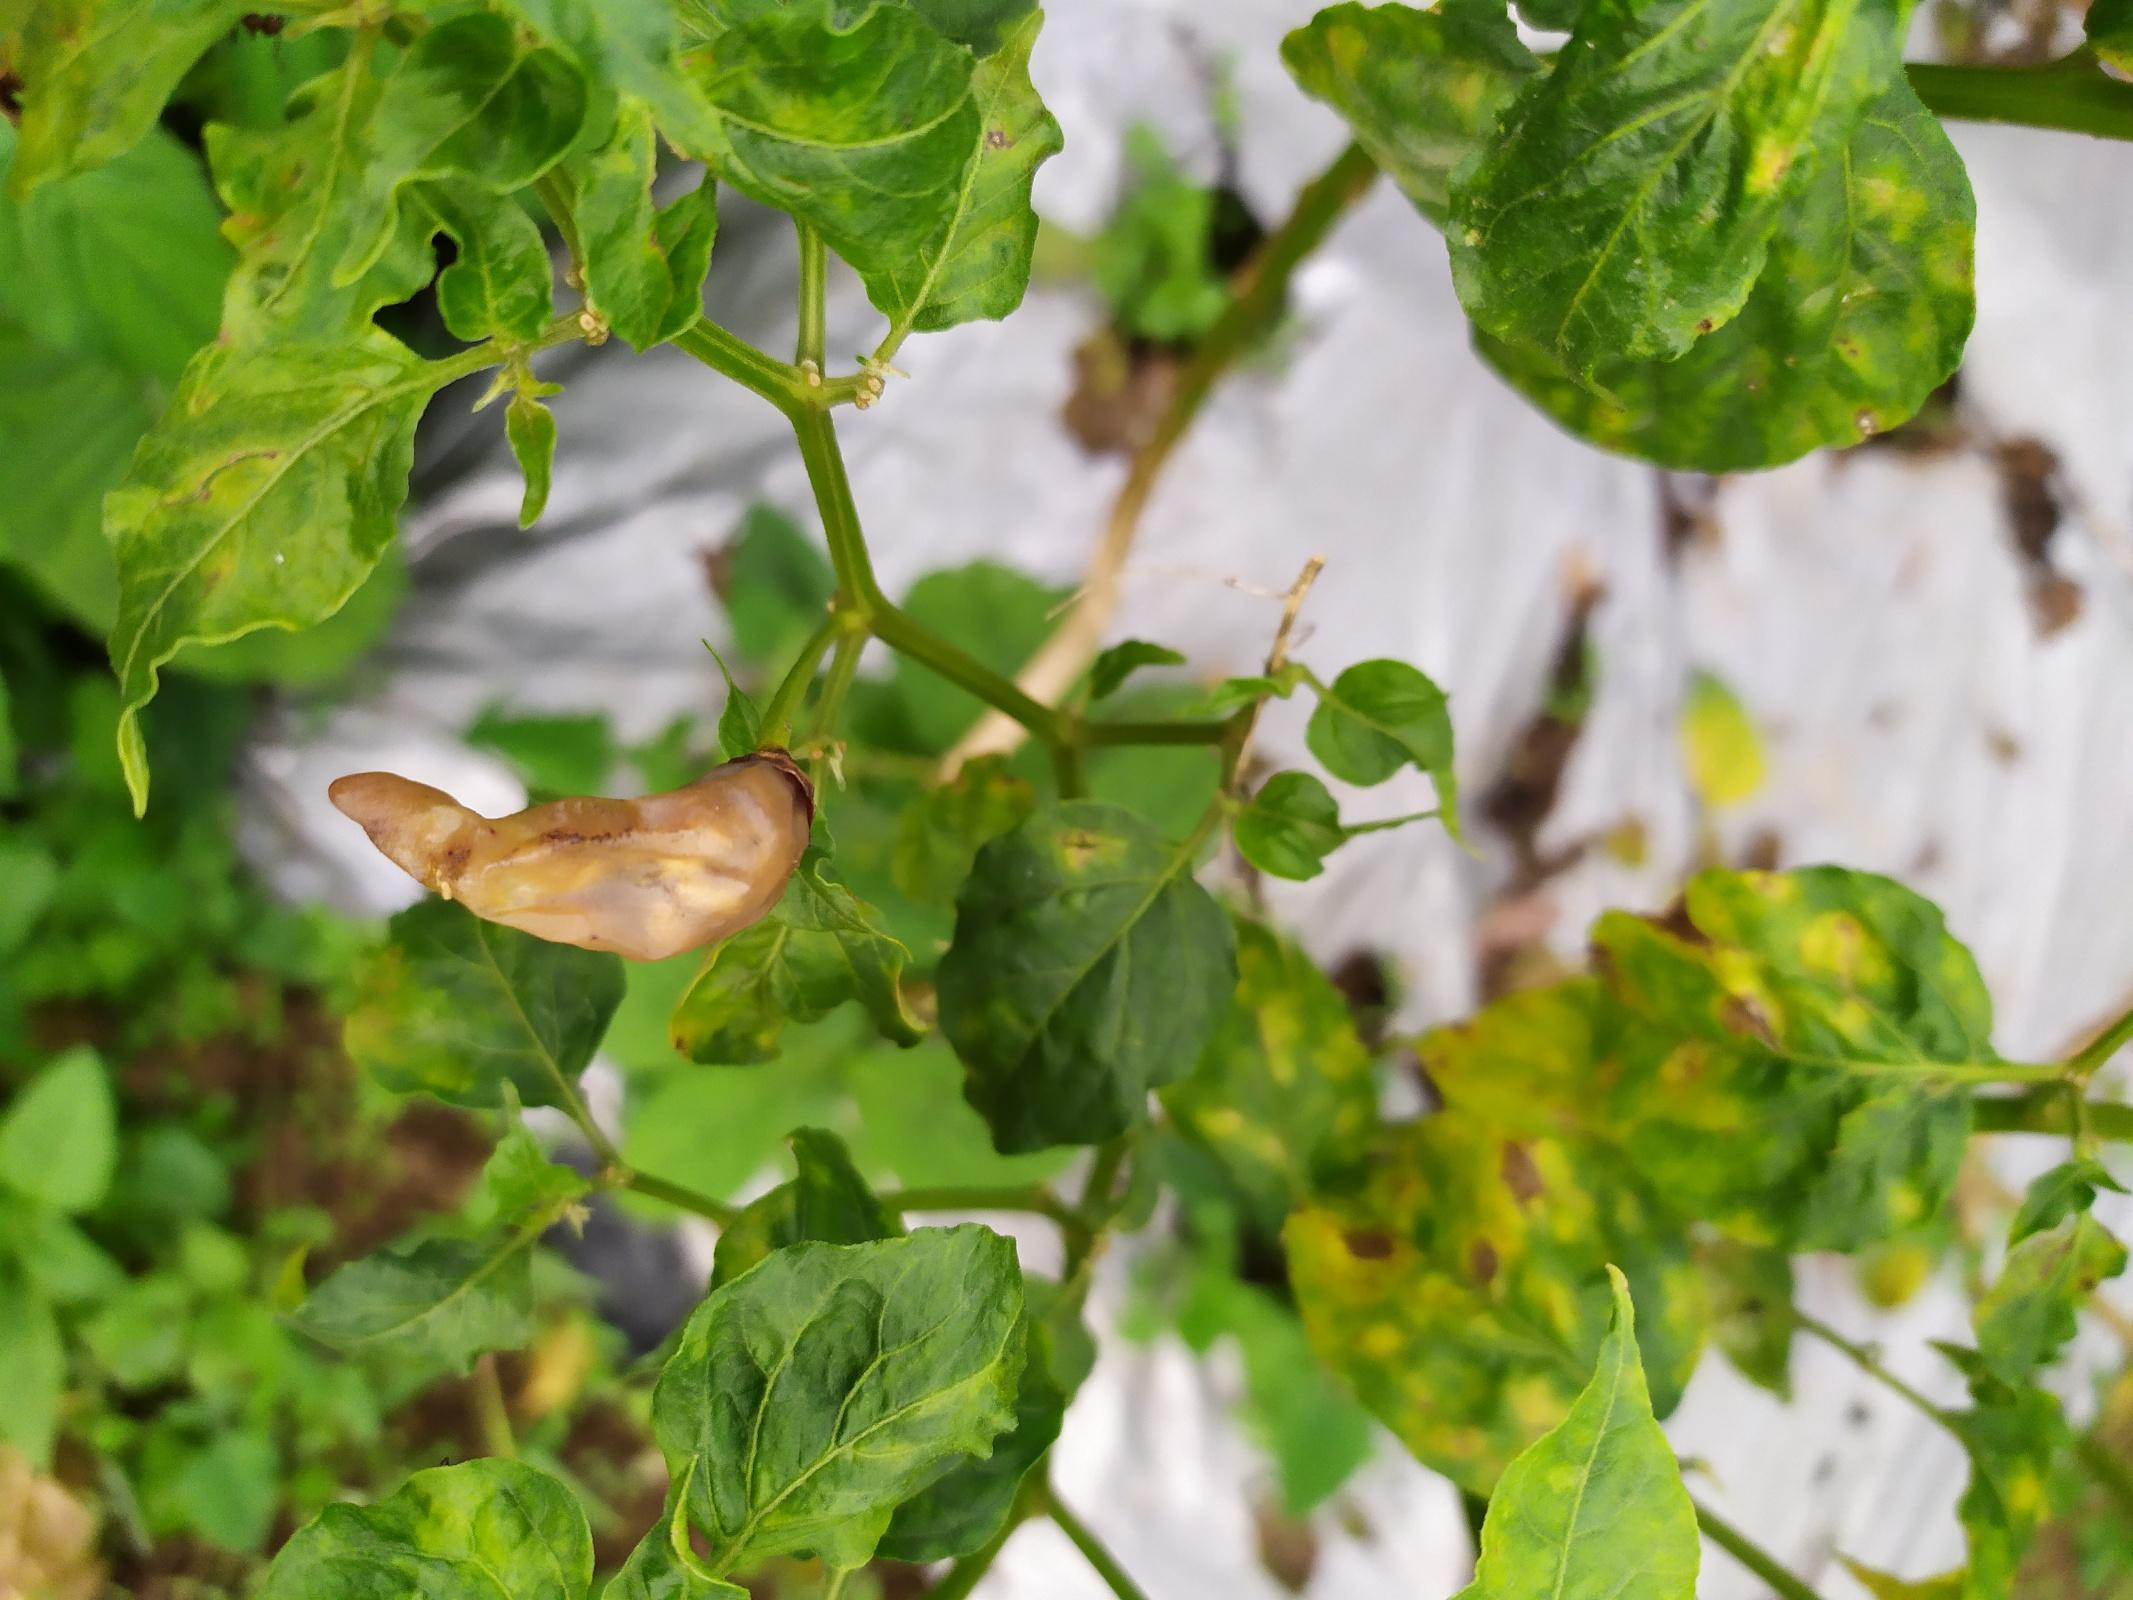lalat_buah: (326, 746, 814, 961)
